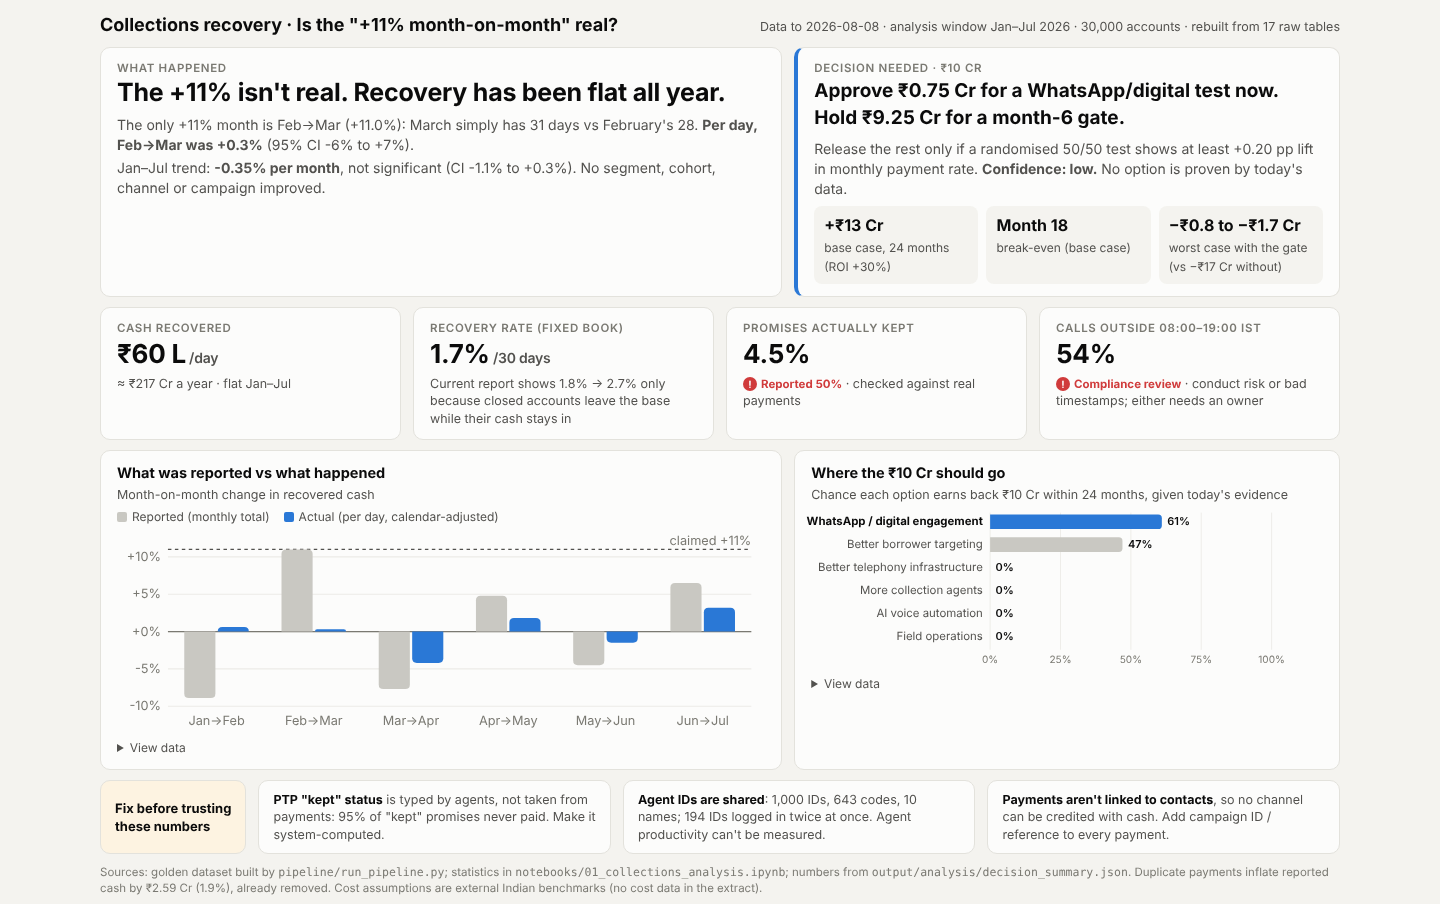

The dashboard page shown, as its layout file describes it:
{"tool":"tableau","page":{"name":"Executive Dashboard","canvas":[1366,768],"ordinal":0},"visuals":[{"type":"text","box":[8,8,1350,184]},{"type":"worksheet","title":"Headline KPIs","mark":"Automatic","cols":["KPI"],"box":[8,192,1190,215]},{"type":"legend","title":"Reported vs Actual MoM","param":"[federated.0n1gcxo0llsxgh1h1axap1788qhk].[none:Series:nk]","box":[1198,192,160,72]},{"type":"legend","title":"Where the 10 Cr Should Go","param":"[federated.0ckt9r9187q7na1elwyev1h6bdbm].[none:Status:nk]","box":[1198,264,160,72]},{"type":"worksheet","title":"Reported vs Actual MoM","mark":"Automatic","rows":["MoM Change %"],"cols":["Transition","Series"],"box":[8,407,595,353]},{"type":"worksheet","title":"Where the 10 Cr Should Go","mark":"Automatic","rows":["Option"],"cols":["Chance of Paying Back %"],"box":[603,407,595,353]}]}

Visuals, with their boxes on the page's 1366x768 design canvas (x1, y1, x2, y2). These are canvas units, not pixel positions in the 1440x904 screenshot, which may show the page scaled, cropped or inside an application window:
text: (8,8,1358,192)
"Headline KPIs" worksheet: (8,192,1198,407)
"Reported vs Actual MoM" legend: (1198,192,1358,264)
"Where the 10 Cr Should Go" legend: (1198,264,1358,336)
"Reported vs Actual MoM" worksheet: (8,407,603,760)
"Where the 10 Cr Should Go" worksheet: (603,407,1198,760)
